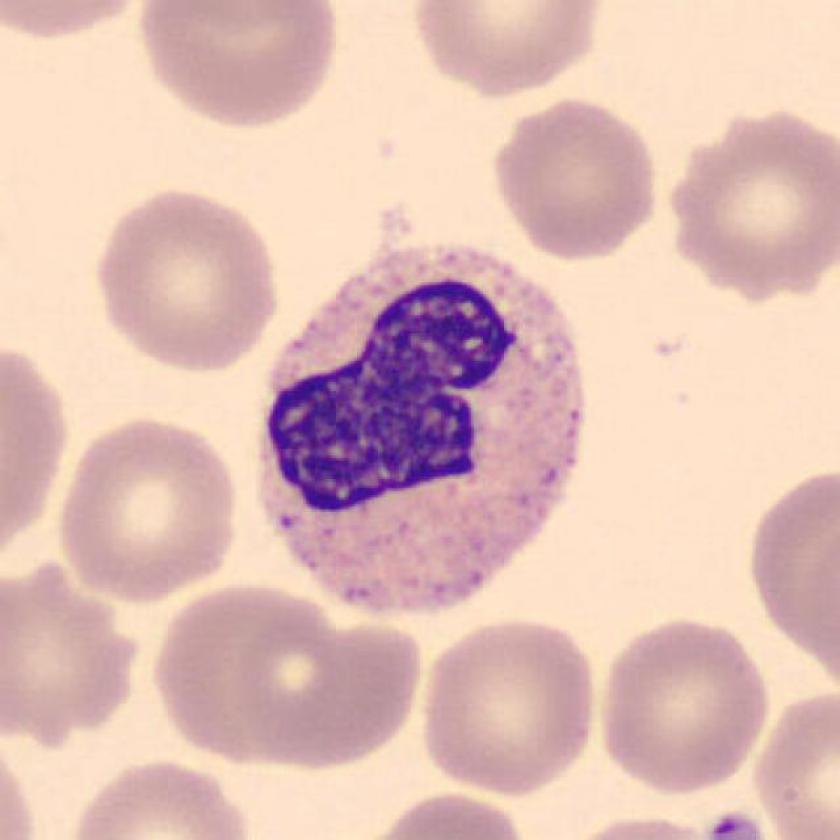neutrophil: (262, 246, 584, 614)
